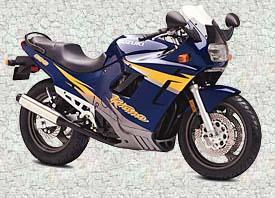motorcycle: (8, 2, 265, 185)
